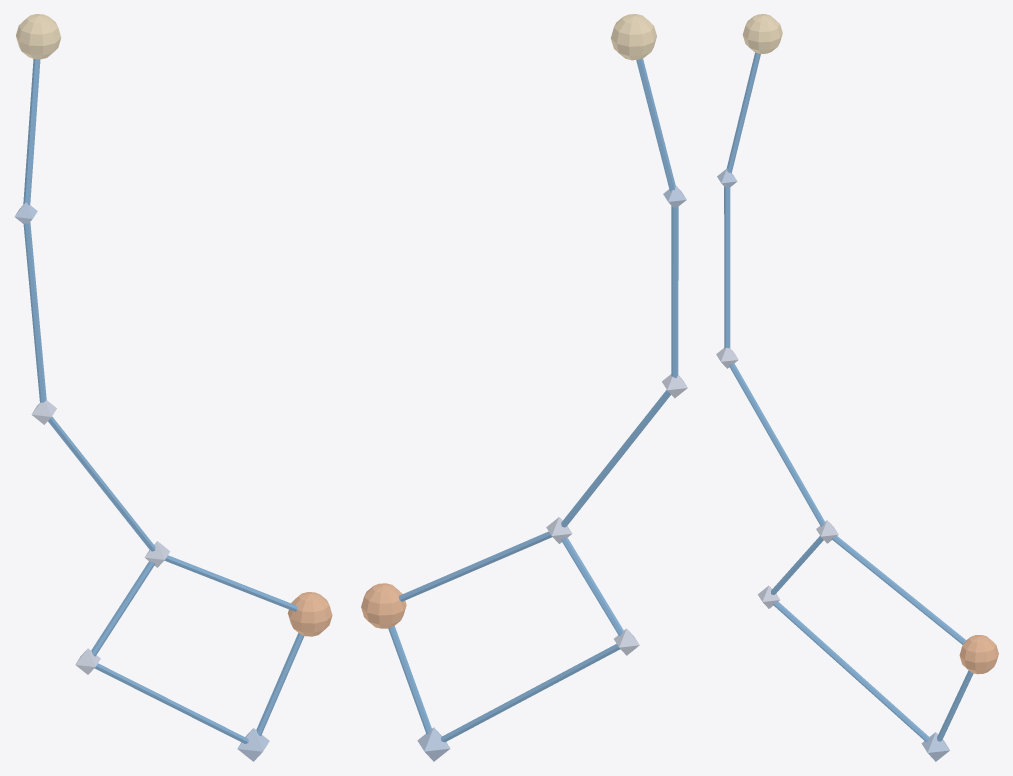
File: constellation-umi.glb
3 renders of one model, left to right at view 1: azimuth 30°, elevation 25°; view 2: azimuth 150°, elevation 25°; view 3: azimuth 330°, elevation 25°, orthographic. The views are drawn at different scales.
Size of the model in its own units: 0.833 by 1.99 by 0.1884.
